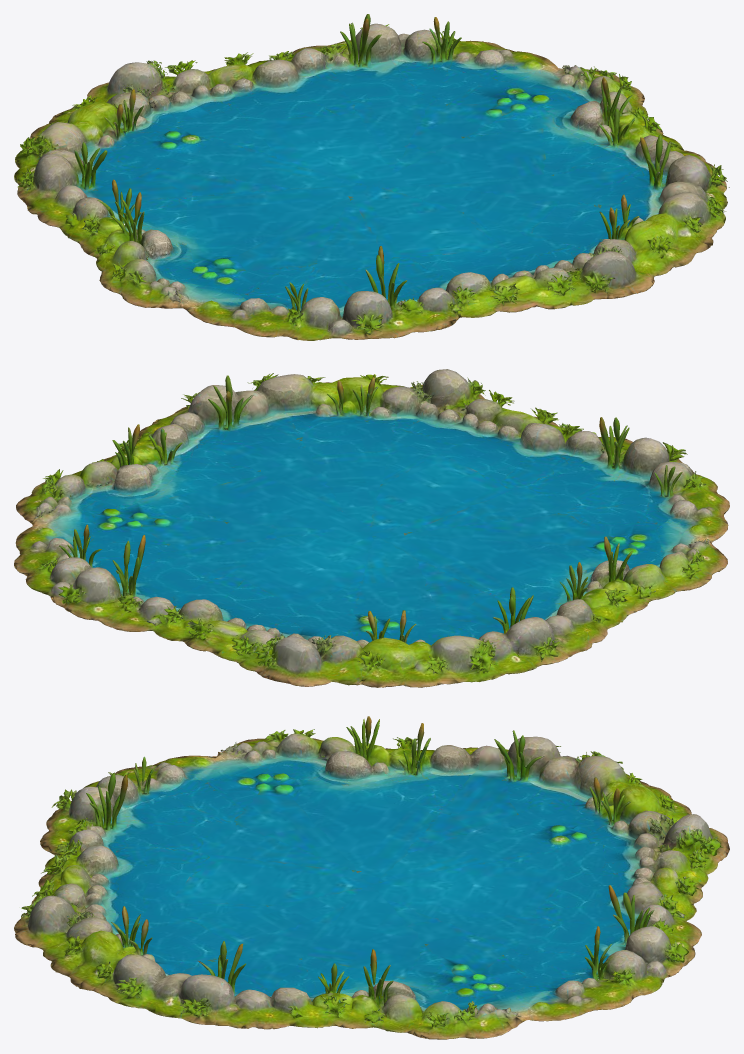
File: Stone lake.glb
3 views of the same model, one above another, from view 1: azimuth 30°, elevation 25°; view 2: azimuth 150°, elevation 25°; view 3: azimuth 270°, elevation 25° (orthographic). The views are drawn at different scales.
Size of the model in its own units: 1.88 by 0.1943 by 1.89.
1 material, 1 textured.
